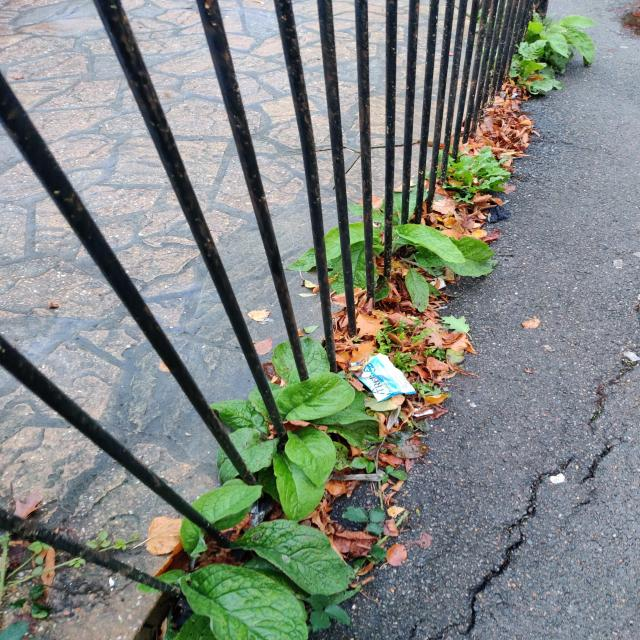litter: (333, 341, 438, 418)
